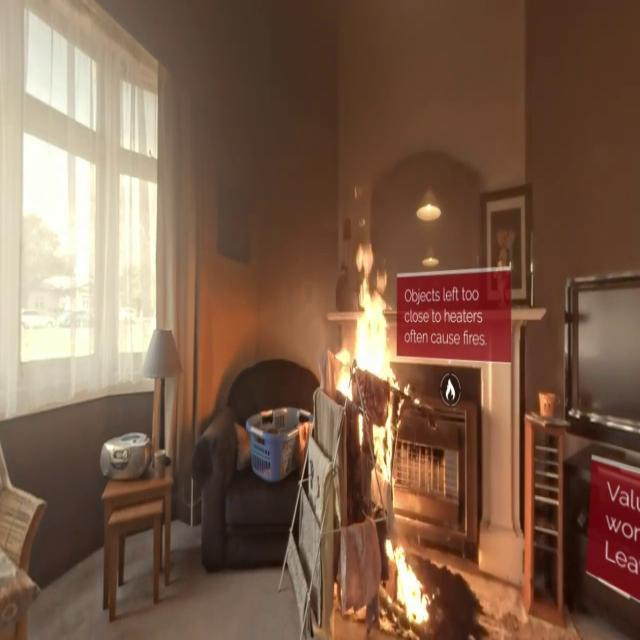Fire: (332, 238, 400, 480), (386, 530, 434, 630)
